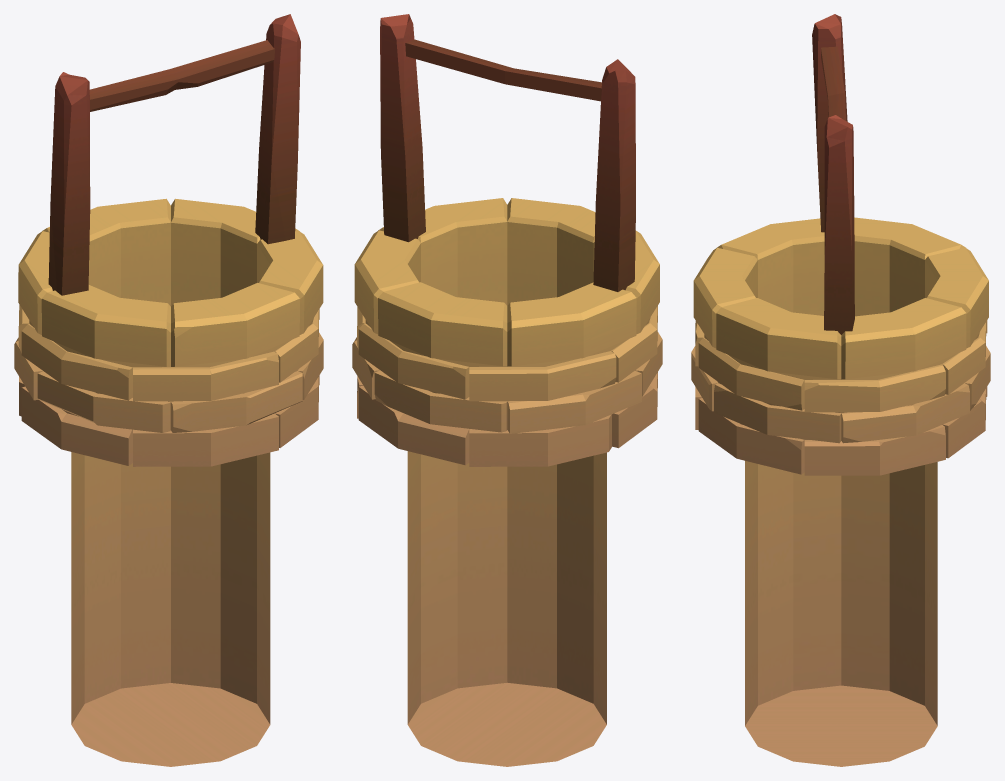
3 renders of one model, left to right at view 1: azimuth 30°, elevation 25°; view 2: azimuth 150°, elevation 25°; view 3: azimuth 270°, elevation 25°, orthographic. The views are drawn at different scales.
Parts seen in each view (by area): view 1: Well; view 2: Well; view 3: Well.
Boxes of the visible parts, x1,y1,x2,y2 form: Well: (14,14,323,766); Well: (352,14,662,766); Well: (691,14,990,766).
Size of the model in its own units: 37.38 by 90 by 37.11.
1 material, 1 textured.
